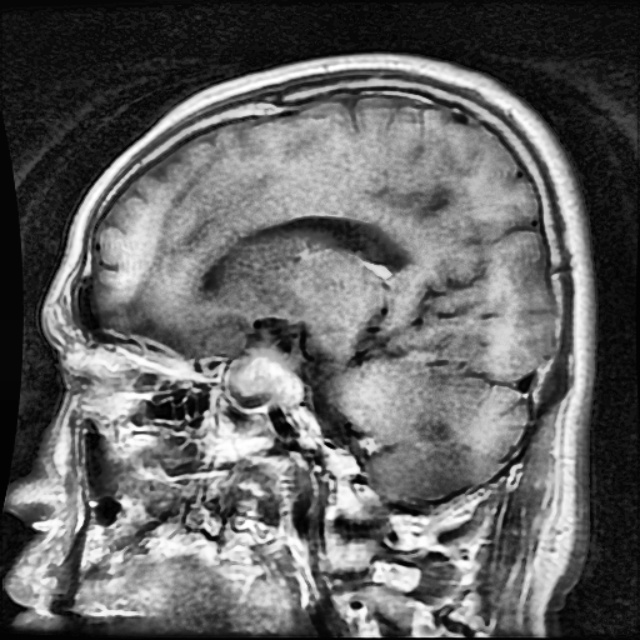Pituitary: (233, 350, 304, 410)
